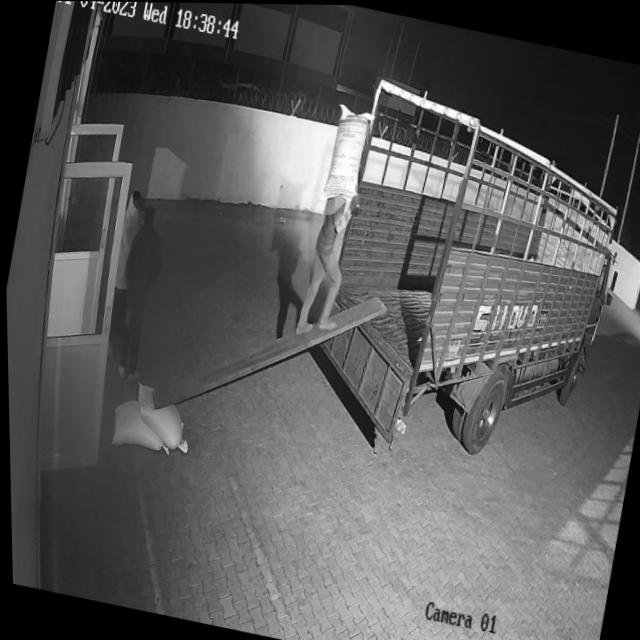sack: (319, 99, 378, 205), (126, 380, 197, 452), (105, 395, 174, 456)
